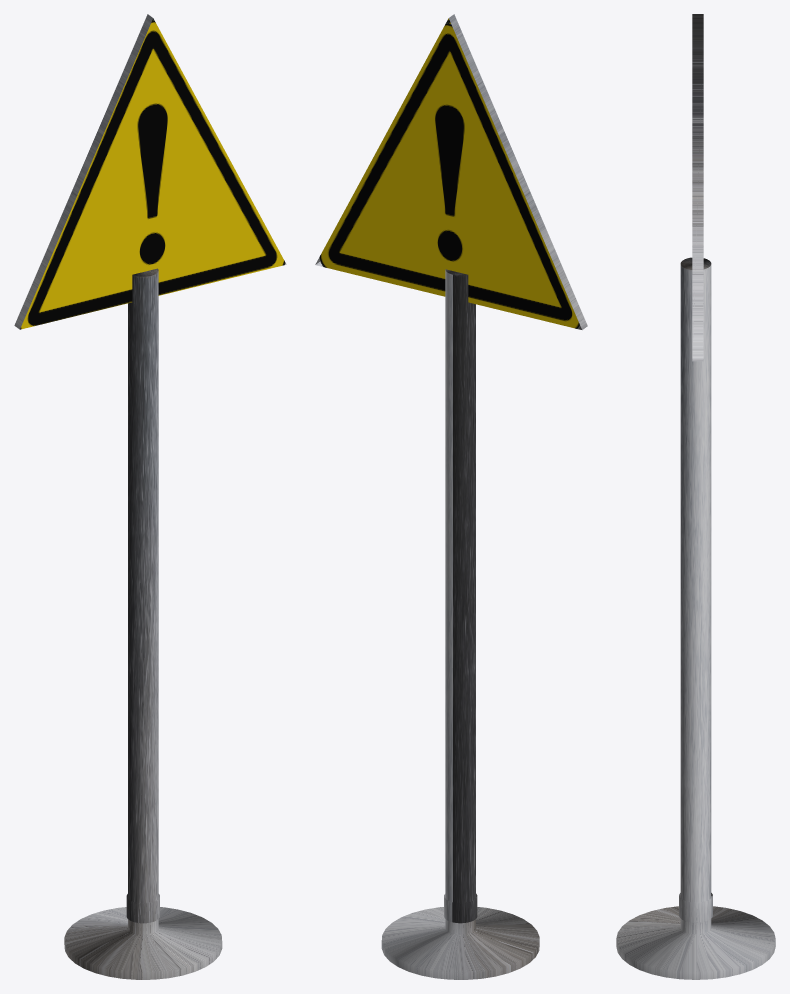
File: Trafficsignal2.fbx
3 views of the same model, side by side, from view 1: azimuth 30°, elevation 25°; view 2: azimuth 150°, elevation 25°; view 3: azimuth 270°, elevation 25° (orthographic).
Visible parts, largest first — view 1: Trafficsignal2; view 2: Trafficsignal2; view 3: Trafficsignal2.
Boxes of the visible parts, x1,y1,x2,y2 form: Trafficsignal2: (14,14,286,979); Trafficsignal2: (315,14,587,979); Trafficsignal2: (616,14,775,979).
Size of the model in its own units: 141 by 470 by 72.6.
2 materials, 2 textured.
